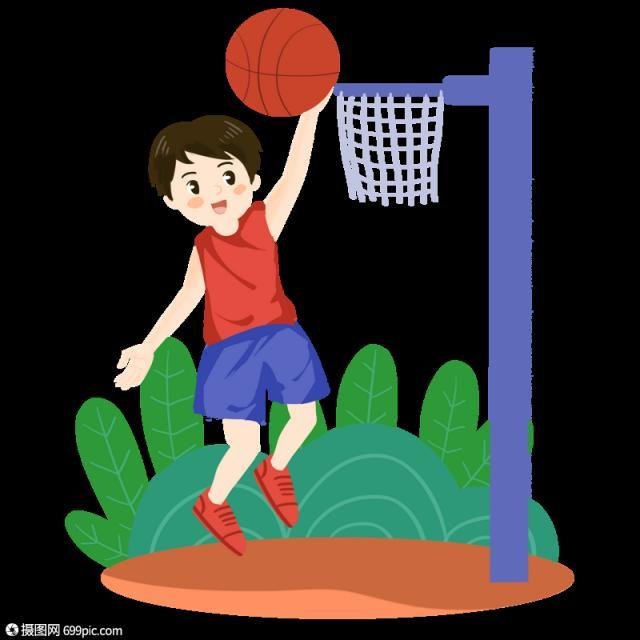rim: (225, 8, 338, 118)
